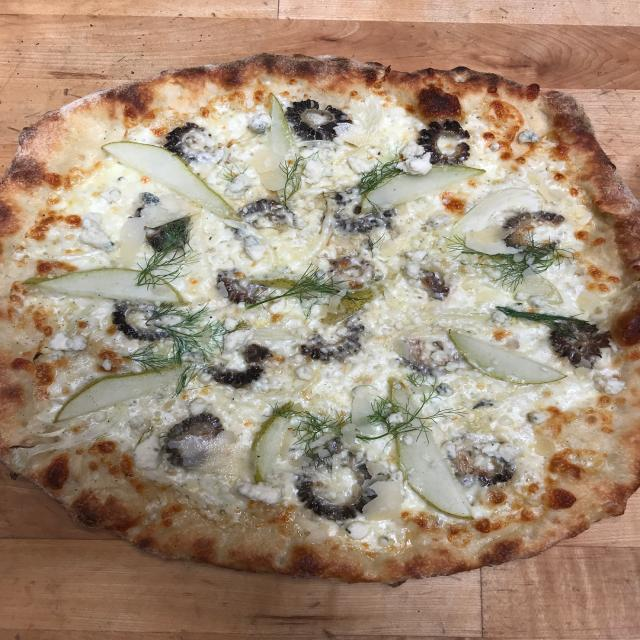mushrooms: (287, 437, 379, 523), (435, 426, 518, 492), (280, 99, 351, 149), (550, 317, 616, 370), (194, 342, 270, 388), (107, 297, 181, 344), (504, 206, 569, 259), (331, 185, 397, 236), (131, 194, 188, 253), (414, 119, 476, 170), (162, 414, 221, 467), (297, 316, 366, 360), (162, 118, 224, 164), (230, 200, 298, 232), (393, 338, 448, 376), (214, 269, 262, 305), (410, 268, 450, 299)
pizza: (0, 55, 639, 584)
